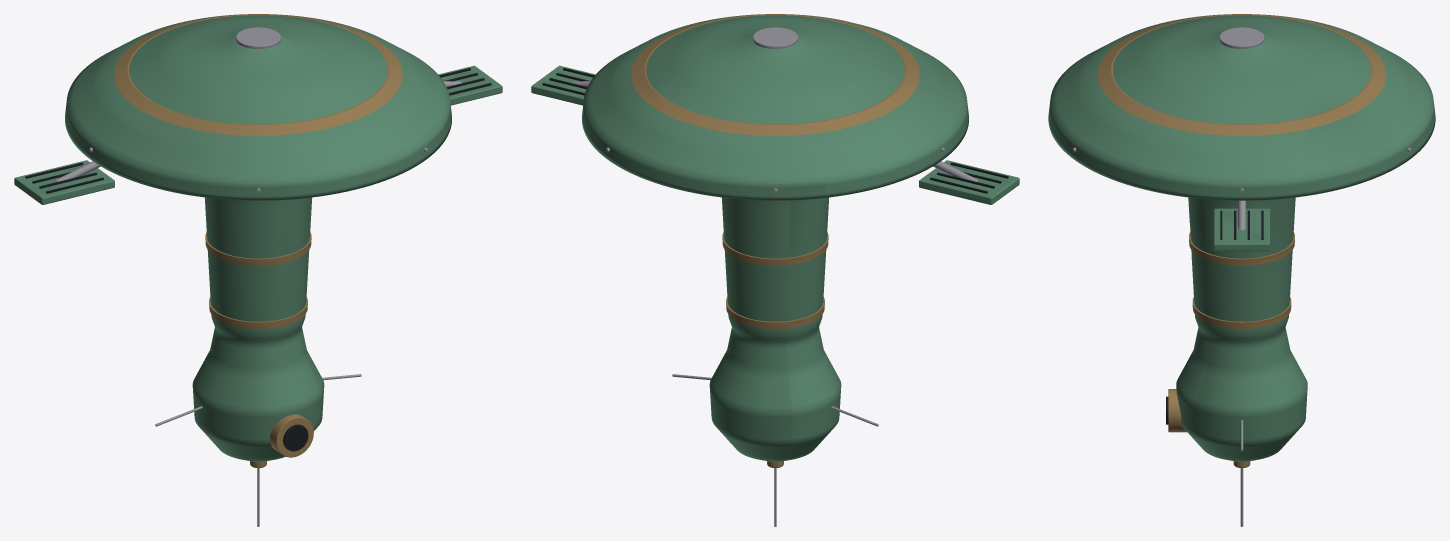
3 views of the same model, side by side, from view 1: azimuth 30°, elevation 25°; view 2: azimuth 150°, elevation 25°; view 3: azimuth 270°, elevation 25° (orthographic).
Parts seen in each view (by area): view 1: Spy Satellite wide upper dome, Spy Satellite stem and lower globe, Spy Satellite dome band, Spy Satellite lateral plate -1, Spy Satellite lateral plate 1, Spy Satellite sensor bezel, Spy Satellite stem band 1, Spy Satellite stem band 0, Spy Satellite crown cap; view 2: Spy Satellite wide upper dome, Spy Satellite stem and lower globe, Spy Satellite dome band, Spy Satellite lateral plate -1, Spy Satellite lateral plate 1, Spy Satellite stem band 1, Spy Satellite stem band 0, Spy Satellite crown cap; view 3: Spy Satellite wide upper dome, Spy Satellite stem and lower globe, Spy Satellite dome band, Spy Satellite lateral plate 1, Spy Satellite stem band 1, Spy Satellite stem band 0, Spy Satellite crown cap, Spy Satellite sensor bezel.
Part boxes in pixels (x1=…): Spy Satellite wide upper dome: x1=65, y1=14, x2=451, y2=200; Spy Satellite stem and lower globe: x1=192, y1=197, x2=324, y2=462; Spy Satellite dome band: x1=114, y1=14, x2=402, y2=135; Spy Satellite lateral plate -1: x1=14, y1=160, x2=114, y2=204; Spy Satellite lateral plate 1: x1=438, y1=65, x2=502, y2=105; Spy Satellite sensor bezel: x1=270, y1=414, x2=313, y2=457; Spy Satellite stem band 1: x1=205, y1=232, x2=311, y2=265; Spy Satellite stem band 0: x1=209, y1=297, x2=307, y2=329; Spy Satellite crown cap: x1=236, y1=27, x2=280, y2=48; Spy Satellite wide upper dome: x1=582, y1=14, x2=968, y2=200; Spy Satellite stem and lower globe: x1=709, y1=197, x2=841, y2=462; Spy Satellite dome band: x1=631, y1=14, x2=919, y2=135; Spy Satellite lateral plate -1: x1=919, y1=160, x2=1019, y2=204; Spy Satellite lateral plate 1: x1=531, y1=65, x2=595, y2=105; Spy Satellite stem band 1: x1=722, y1=232, x2=828, y2=265; Spy Satellite stem band 0: x1=726, y1=297, x2=824, y2=329; Spy Satellite crown cap: x1=753, y1=27, x2=797, y2=48; Spy Satellite wide upper dome: x1=1048, y1=15, x2=1435, y2=200; Spy Satellite stem and lower globe: x1=1176, y1=197, x2=1307, y2=462; Spy Satellite dome band: x1=1097, y1=14, x2=1386, y2=135; Spy Satellite lateral plate 1: x1=1213, y1=208, x2=1270, y2=251; Spy Satellite stem band 1: x1=1189, y1=232, x2=1294, y2=265; Spy Satellite stem band 0: x1=1192, y1=297, x2=1291, y2=329; Spy Satellite crown cap: x1=1219, y1=27, x2=1264, y2=48; Spy Satellite sensor bezel: x1=1168, y1=389, x2=1186, y2=432.
Bounding box in the file's own units: 2.83 × 2.87 × 2.06.
5 materials, 2 textured.
